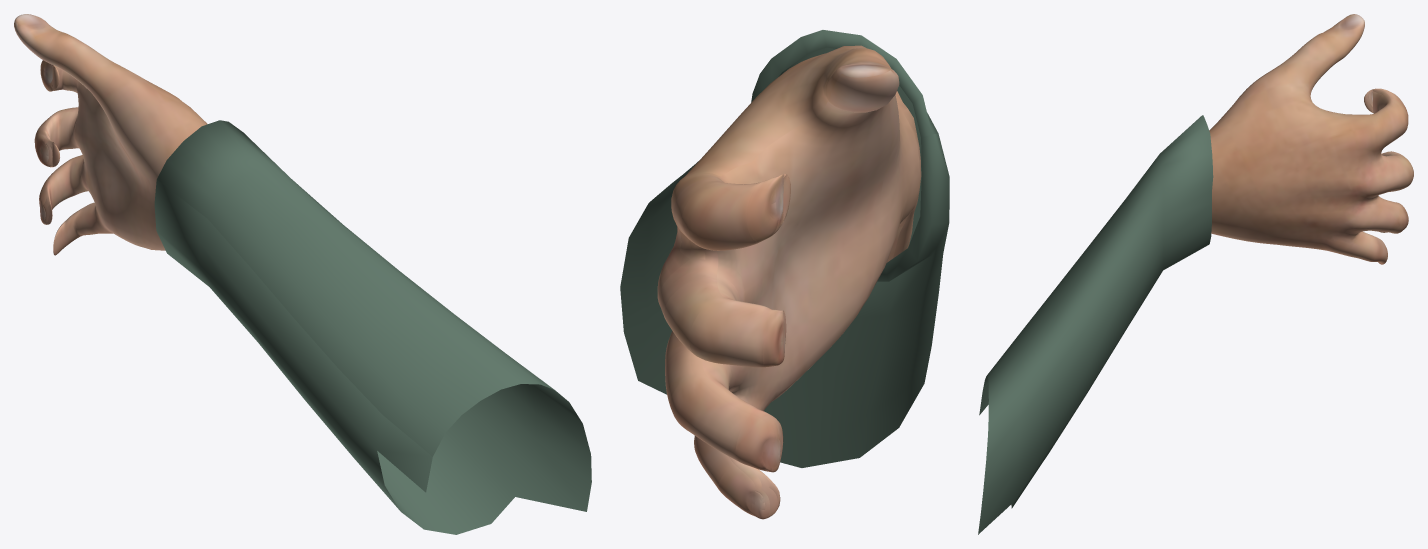
The model's file is cup-hand.glb.
3 renders of one model, left to right at view 1: azimuth 30°, elevation 25°; view 2: azimuth 150°, elevation 25°; view 3: azimuth 270°, elevation 25°, orthographic. The views are drawn at different scales.
Visible parts, largest first — view 1: Cup grip male_casualsuit02, Cup grip Sam | anatomical body; view 2: Cup grip Sam | anatomical body, Cup grip male_casualsuit02; view 3: Cup grip male_casualsuit02, Cup grip Sam | anatomical body.
Boxes of the visible parts, x1,y1,x2,y2 form: Cup grip male_casualsuit02: [154, 120, 591, 534]; Cup grip Sam | anatomical body: [14, 14, 207, 255]; Cup grip Sam | anatomical body: [657, 45, 921, 519]; Cup grip male_casualsuit02: [620, 30, 949, 467]; Cup grip male_casualsuit02: [978, 115, 1213, 534]; Cup grip Sam | anatomical body: [1209, 14, 1413, 264].
Size of the model in its own units: 0.223 by 0.2512 by 0.2629.
Materials: 2 (1 with a texture image).
